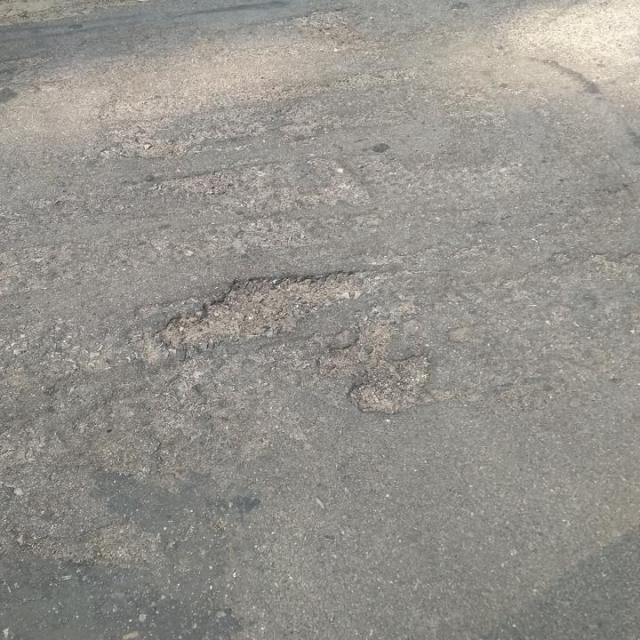Pothole: (153, 267, 381, 352), (345, 351, 434, 415)
